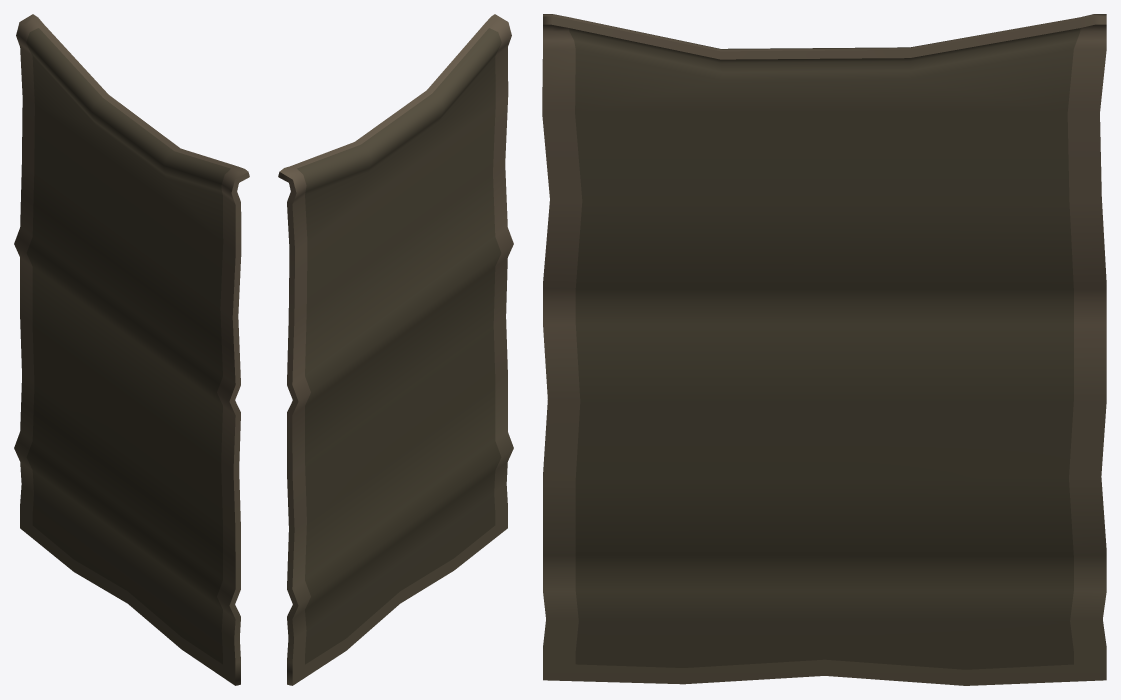
File: Scaffold_sheet_2_4.glb
3 views of the same model, side by side, from view 1: azimuth 30°, elevation 25°; view 2: azimuth 150°, elevation 25°; view 3: azimuth 270°, elevation 25° (orthographic). The views are drawn at different scales.
Visible parts, largest first — view 1: Scaffold_sheet_2_4; view 2: Scaffold_sheet_2_4; view 3: Scaffold_sheet_2_4.
Part boxes in pixels (x1,y1,x2,y2): Scaffold_sheet_2_4: [14, 14, 249, 685]; Scaffold_sheet_2_4: [278, 14, 513, 685]; Scaffold_sheet_2_4: [542, 14, 1106, 685].
Bounding box in the file's own units: 0.101 × 2.42 × 1.84.
1 material, 1 textured.
